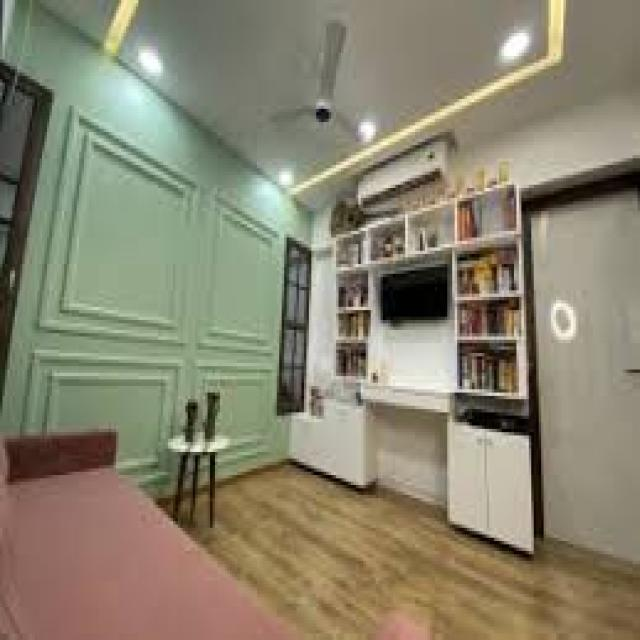bulb_on: (494, 32, 538, 65), (137, 50, 171, 80), (354, 119, 384, 144), (282, 170, 294, 186)
fan_off: (260, 19, 374, 149)
